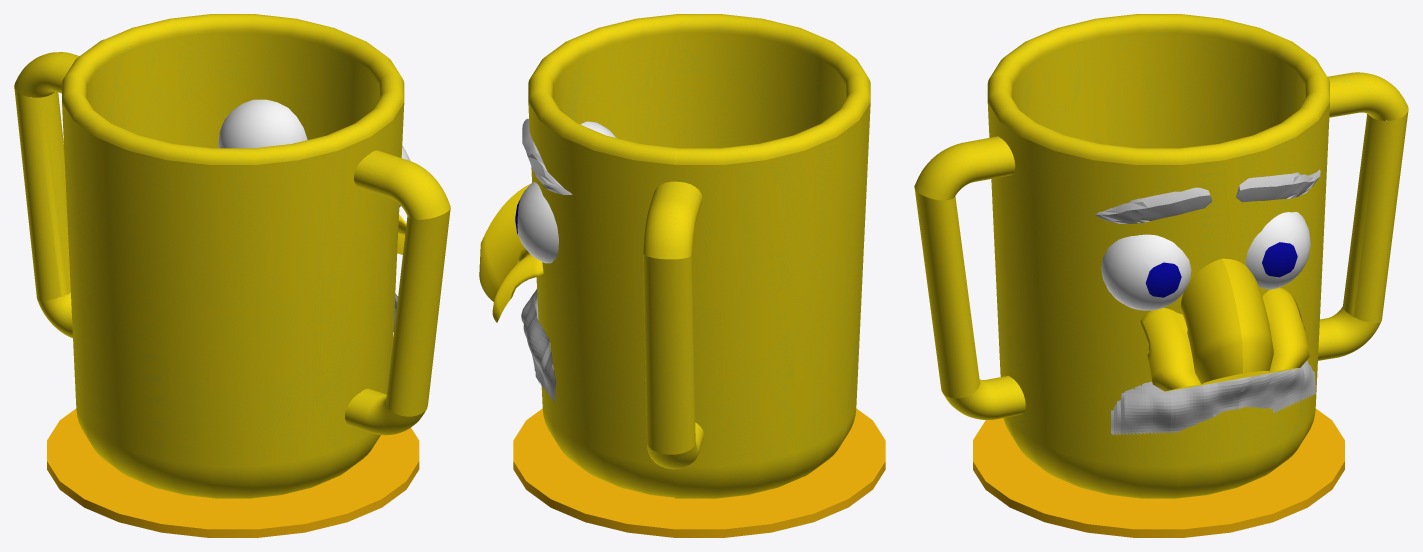
The picture shows the model from 3 angles, left to right: view 1: azimuth 30°, elevation 25°; view 2: azimuth 150°, elevation 25°; view 3: azimuth 270°, elevation 25°; orthographic projection.
Visible parts, largest first — view 1: mesh1_mesh1-geometry_1, mesh10_mesh10-geometry, mesh2_mesh2-geometry_2, mesh2_mesh2-geometry, mesh6_mesh6-geometry_2; view 2: mesh1_mesh1-geometry_1, mesh10_mesh10-geometry, mesh2_mesh2-geometry, mesh3_mesh3-geometry, mesh6_mesh6-geometry_2, mesh8_mesh8-geometry, mesh4_mesh4-geometry; view 3: mesh1_mesh1-geometry_1, mesh10_mesh10-geometry, mesh3_mesh3-geometry, mesh2_mesh2-geometry_2, mesh2_mesh2-geometry, mesh8_mesh8-geometry, mesh7_mesh7-geometry_1, mesh6_mesh6-geometry_2, mesh5_mesh5-geometry, mesh4_mesh4-geometry, mesh7_mesh7-geometry_2, mesh6_mesh6-geometry_1.
Part boxes in pixels (x1,y1,x2,y2): mesh1_mesh1-geometry_1: (62,14,404,498); mesh10_mesh10-geometry: (47,408,419,537); mesh2_mesh2-geometry_2: (345,150,450,435); mesh2_mesh2-geometry: (14,52,79,338); mesh6_mesh6-geometry_2: (218,99,307,148); mesh1_mesh1-geometry_1: (528,14,870,498); mesh10_mesh10-geometry: (513,408,885,537); mesh2_mesh2-geometry: (643,181,703,469); mesh3_mesh3-geometry: (479,184,543,322); mesh6_mesh6-geometry_2: (517,182,558,263); mesh8_mesh8-geometry: (521,289,556,402); mesh4_mesh4-geometry: (522,118,572,194); mesh1_mesh1-geometry_1: (987,14,1329,498); mesh10_mesh10-geometry: (973,408,1344,537); mesh3_mesh3-geometry: (1139,258,1309,391); mesh2_mesh2-geometry_2: (914,136,1025,419); mesh2_mesh2-geometry: (1318,72,1408,360); mesh8_mesh8-geometry: (1111,360,1315,435); mesh7_mesh7-geometry_1: (1101,234,1191,310); mesh6_mesh6-geometry_2: (1245,212,1310,289); mesh5_mesh5-geometry: (1095,187,1212,223); mesh4_mesh4-geometry: (1236,169,1320,202); mesh7_mesh7-geometry_2: (1145,262,1181,297); mesh6_mesh6-geometry_1: (1262,242,1297,277).
Bounding box in the file's own units: 0.524 × 0.5485 × 0.6516.
